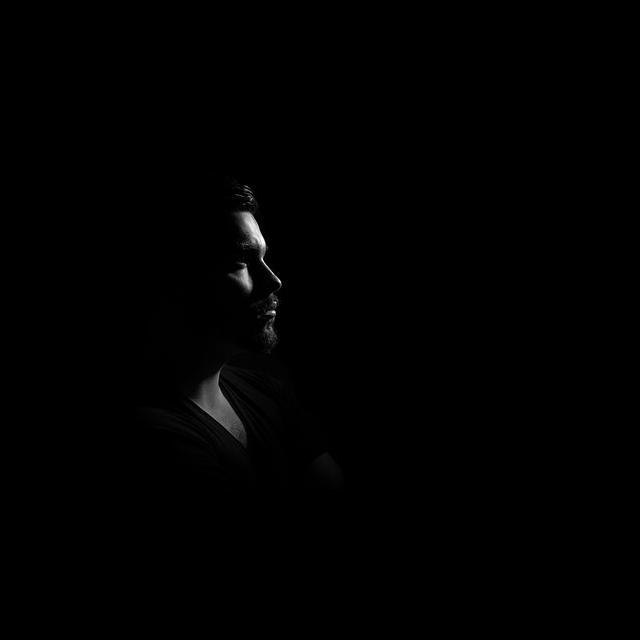male: (168, 196, 321, 358)
